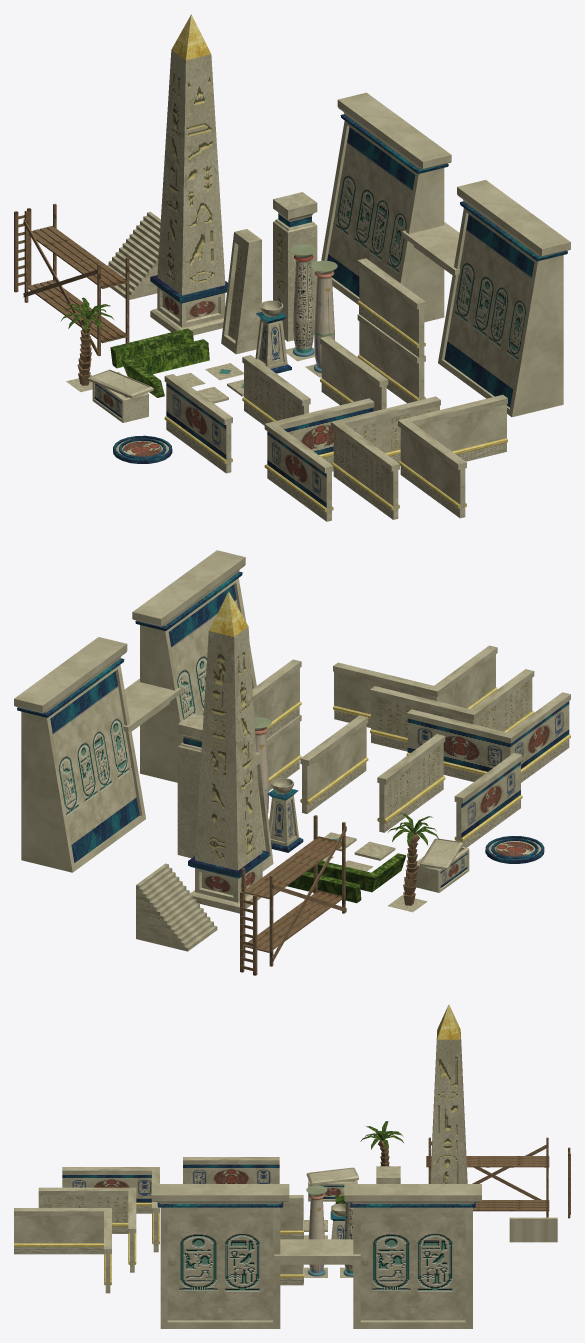
Rendered from Egyptian_tomb_asset_pack.fbx.
3 views of the same model, one above another, from view 1: azimuth 30°, elevation 25°; view 2: azimuth 150°, elevation 25°; view 3: azimuth 270°, elevation 25° (orthographic). The views are drawn at different scales.
Parts seen in each view (by area): view 1: Gate_mesh, Obelisk_mesh, Wall_corner_mesh_basic, Outer_wall_mesh, Wall_corner_mesh_heiroglyphics, Wall_corner_mesh_decorative1, Scaffold_mesh, corner_pillar, Wall_mesh_decorative, Extrior_pillar_mesh, Wall_mesh_basic, Wall_mesh_heiroglyphics (+10 smaller); view 2: Gate_mesh, Obelisk_mesh, Wall_corner_mesh_decorative1, Wall_corner_mesh_heiroglyphics, Scaffold_mesh, Wall_corner_mesh_basic, Stairs_mesh, Outer_wall_mesh, Wall_mesh_basic, Wall_mesh_heiroglyphics, Wall_mesh_decorative, corner_pillar (+9 smaller); view 3: Gate_mesh, Obelisk_mesh, Wall_corner_mesh_basic, Wall_corner_mesh_heiroglyphics, Wall_corner_mesh_decorative1, Scaffold_mesh, Wall_mesh_decorative, Outer_wall_mesh, Stairs_mesh, Pillar_mesh2, Sarcoffogus_mesh, Palm_tree_mesh (+3 smaller).
Part boxes in pixels (bbox=[...]): Gate_mesh: bbox=[321, 92, 570, 417]; Obelisk_mesh: bbox=[150, 14, 227, 335]; Wall_corner_mesh_basic: bbox=[398, 394, 507, 518]; Outer_wall_mesh: bbox=[357, 258, 425, 403]; Wall_corner_mesh_heiroglyphics: bbox=[331, 396, 440, 519]; Wall_corner_mesh_decorative1: bbox=[264, 398, 374, 521]; Scaffold_mesh: bbox=[23, 203, 129, 356]; corner_pillar: bbox=[273, 192, 317, 341]; Wall_mesh_decorative: bbox=[164, 374, 232, 473]; Extrior_pillar_mesh: bbox=[221, 229, 261, 354]; Wall_mesh_basic: bbox=[320, 336, 388, 411]; Wall_mesh_heiroglyphics: bbox=[242, 355, 310, 425]; Gate_mesh: bbox=[14, 550, 256, 872]; Obelisk_mesh: bbox=[188, 591, 269, 913]; Wall_corner_mesh_decorative1: bbox=[406, 692, 570, 782]; Wall_corner_mesh_heiroglyphics: bbox=[370, 669, 534, 751]; Scaffold_mesh: bbox=[241, 815, 346, 966]; Wall_corner_mesh_basic: bbox=[333, 645, 497, 727]; Stairs_mesh: bbox=[136, 863, 217, 951]; Outer_wall_mesh: bbox=[252, 659, 301, 790]; Wall_mesh_basic: bbox=[300, 715, 368, 813]; Wall_mesh_heiroglyphics: bbox=[377, 734, 445, 832]; Wall_mesh_decorative: bbox=[454, 753, 522, 847]; corner_pillar: bbox=[177, 713, 203, 858]; Gate_mesh: bbox=[151, 1184, 481, 1328]; Obelisk_mesh: bbox=[430, 1004, 467, 1183]; Wall_corner_mesh_basic: bbox=[14, 1208, 111, 1293]; Wall_corner_mesh_heiroglyphics: bbox=[38, 1187, 136, 1272]; Wall_corner_mesh_decorative1: bbox=[62, 1167, 159, 1252]; Scaffold_mesh: bbox=[426, 1137, 549, 1217]; Wall_mesh_decorative: bbox=[183, 1157, 279, 1183]; Outer_wall_mesh: bbox=[280, 1195, 303, 1285]; Stairs_mesh: bbox=[509, 1217, 557, 1242]; Pillar_mesh2: bbox=[304, 1185, 327, 1277]; Sarcoffogus_mesh: bbox=[306, 1167, 358, 1201]; Palm_tree_mesh: bbox=[360, 1121, 403, 1166].
Bounding box in the file's own units: 15.14 × 11.4 × 23.05.
9 materials, 9 textured.
